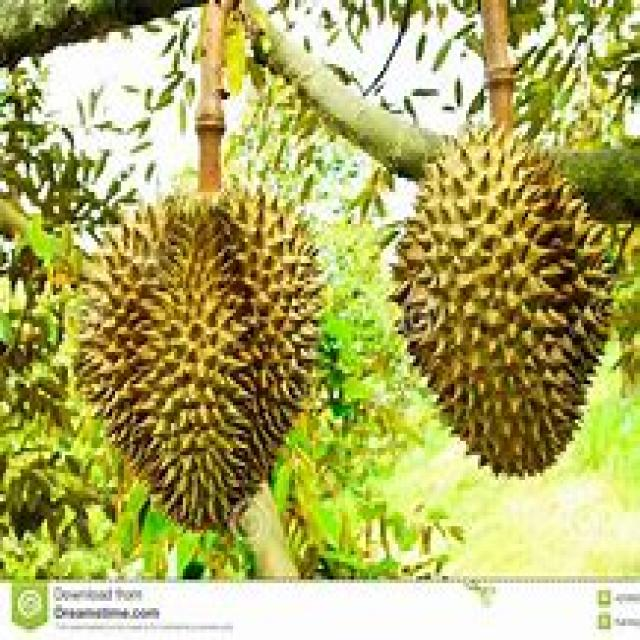mature: (80, 194, 322, 527), (395, 130, 612, 474)
